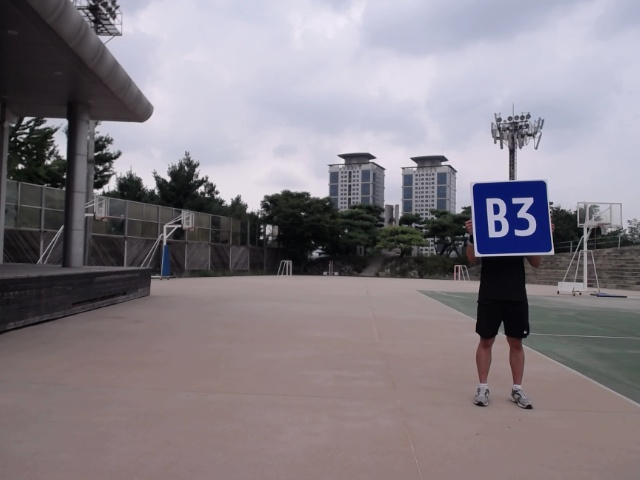delivery_b3: (470, 181, 557, 257)
